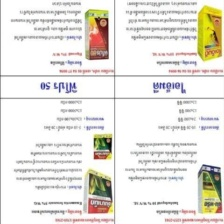book: (81, 166, 117, 217)
carton: (83, 6, 113, 63), (195, 3, 223, 62), (195, 159, 223, 216)
insecticide: (91, 130, 113, 162)
